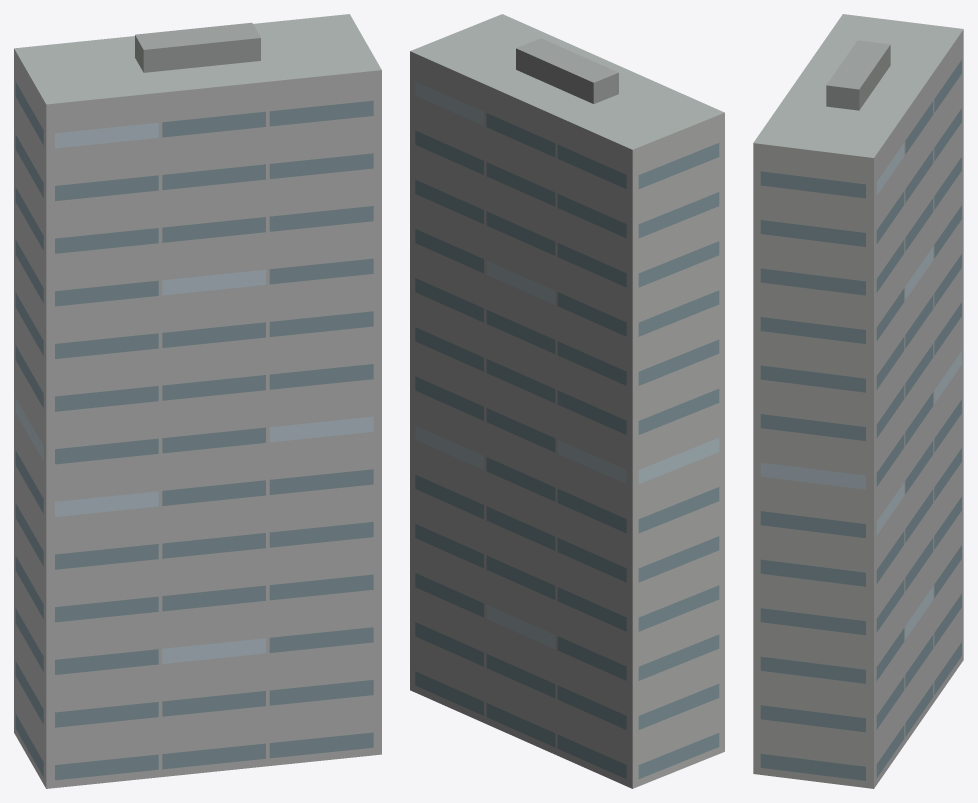
Rendered from fallback-jamsil-els-135.glb.
3 views of the same model, side by side, from view 1: azimuth 30°, elevation 25°; view 2: azimuth 150°, elevation 25°; view 3: azimuth 270°, elevation 25° (orthographic). The views are drawn at different scales.
Parts seen in each view (by area): view 1: fallback-jamsil-els-135; view 2: fallback-jamsil-els-135; view 3: fallback-jamsil-els-135.
Boxes of the visible parts, bbox=[...] form: fallback-jamsil-els-135: bbox=[14, 14, 381, 788]; fallback-jamsil-els-135: bbox=[410, 14, 724, 788]; fallback-jamsil-els-135: bbox=[753, 14, 963, 788].
Bounding box in the file's own units: 35.07 × 74 × 21.66.
